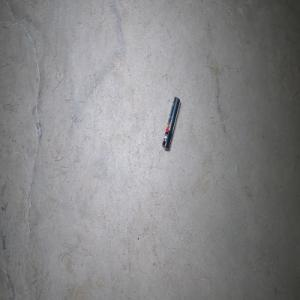Battery: (161, 96, 181, 151)
